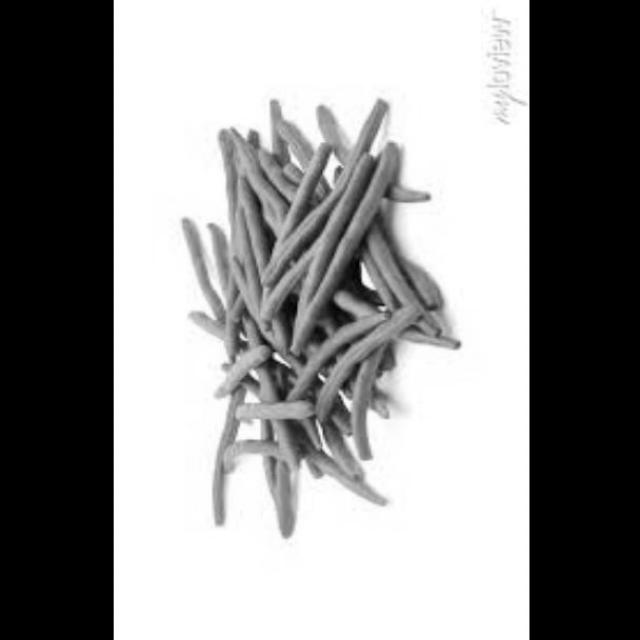dau van: (172, 83, 466, 536)
